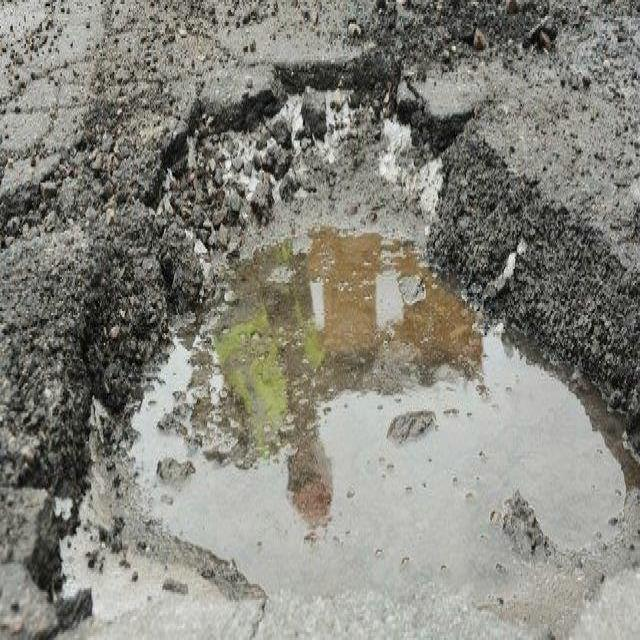lubang: (60, 72, 632, 620)
